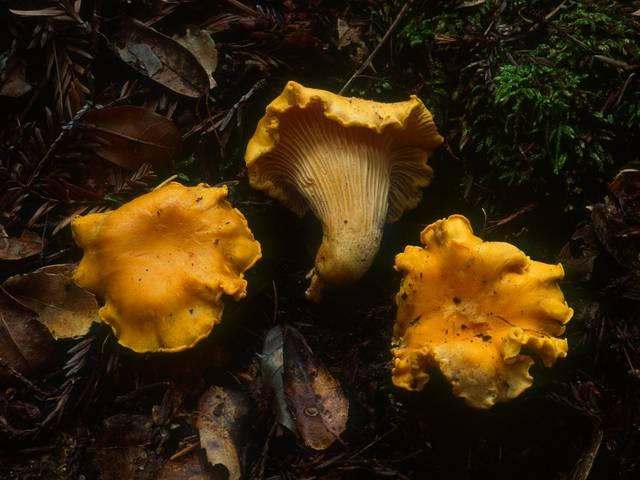Edible Mushroom: (243, 78, 444, 303), (389, 212, 574, 409), (69, 179, 262, 354)
